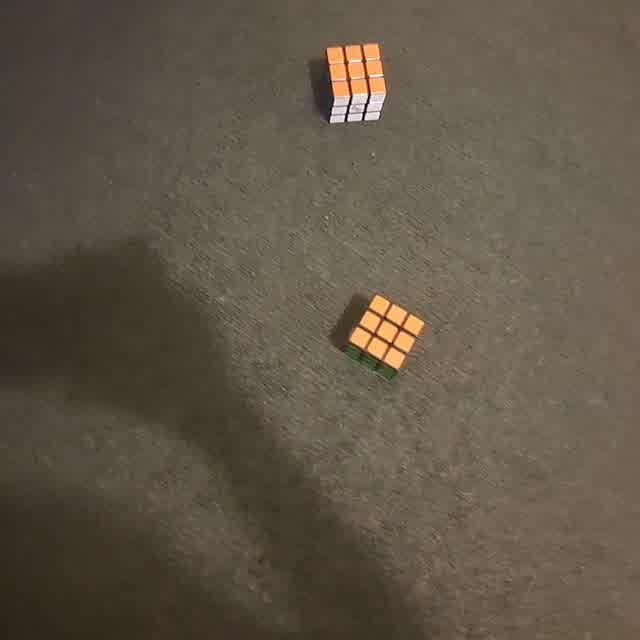rubix_cube: (341, 292, 427, 385), (318, 40, 390, 127)
